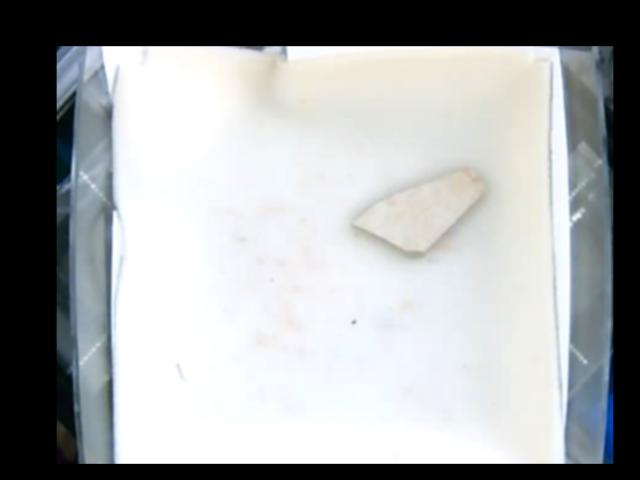China: (350, 168, 486, 255)
